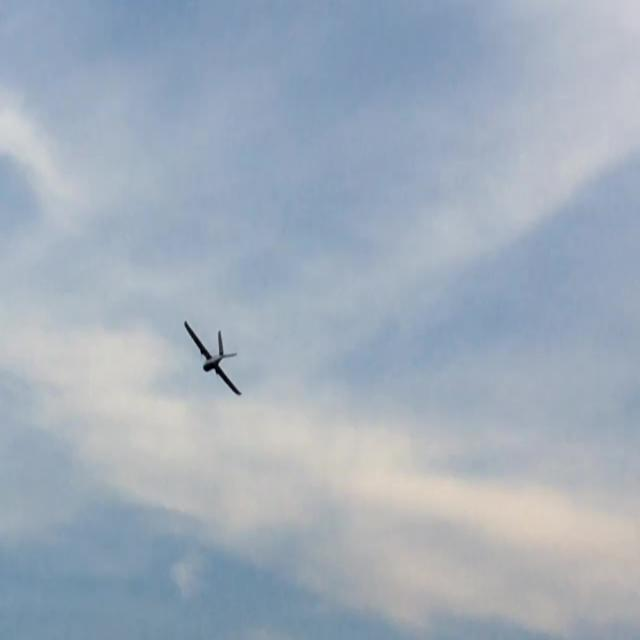iha: (184, 356, 242, 361)
